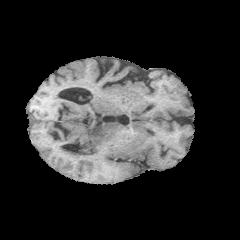glioma: (59, 122, 122, 158)
